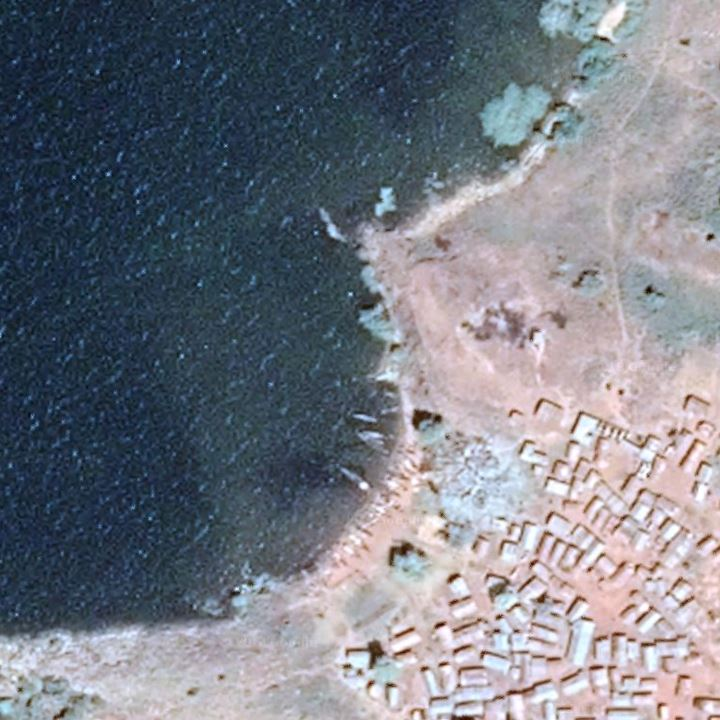boat: (333, 467, 373, 493), (389, 452, 424, 472), (346, 532, 376, 555), (350, 411, 381, 427), (338, 540, 364, 559), (354, 435, 391, 448), (362, 501, 392, 517), (325, 548, 349, 568), (347, 522, 375, 539), (376, 478, 409, 492), (357, 444, 392, 457), (358, 427, 389, 441), (382, 468, 411, 481)
